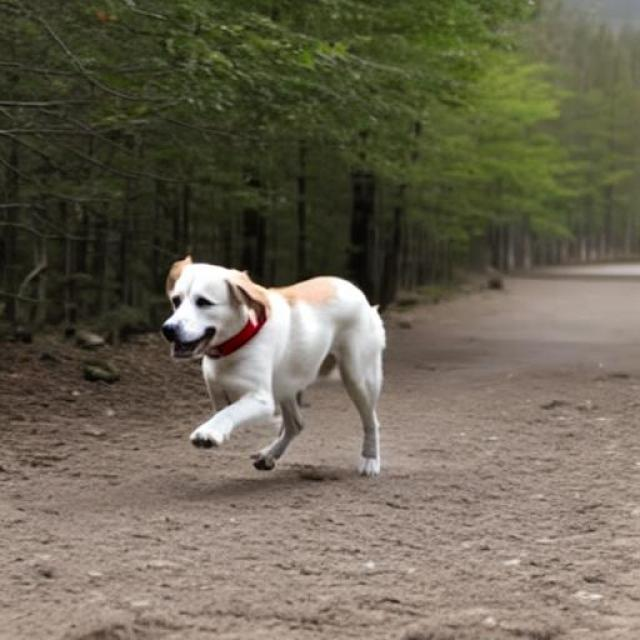Dog: (163, 256, 388, 477)
